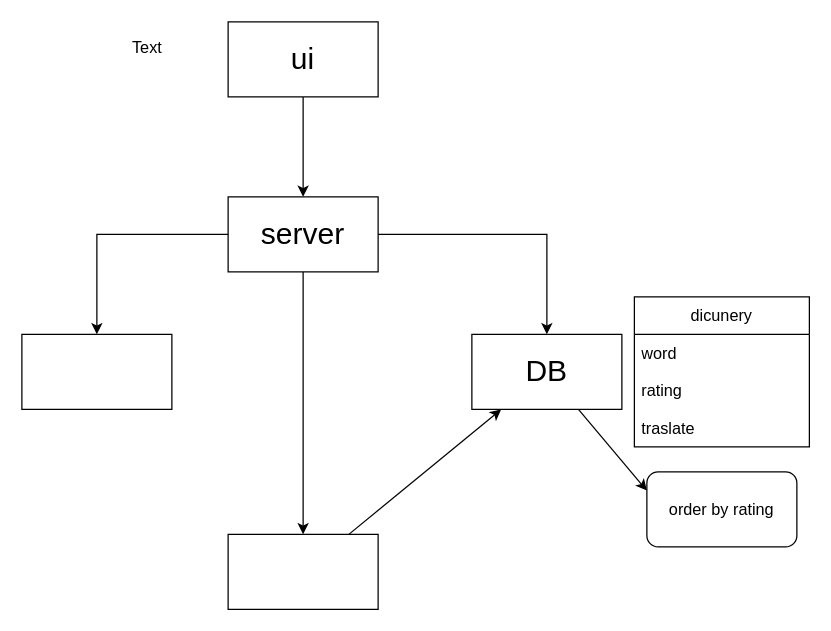
Image size: 831x631. Some labels were removed from this diagram. Here are the shapes that lost their labels. From the top down, the centre of each, then its label:
At pixel 96 371: "scraper".
At pixel 302 571: "rating-upates-system".
